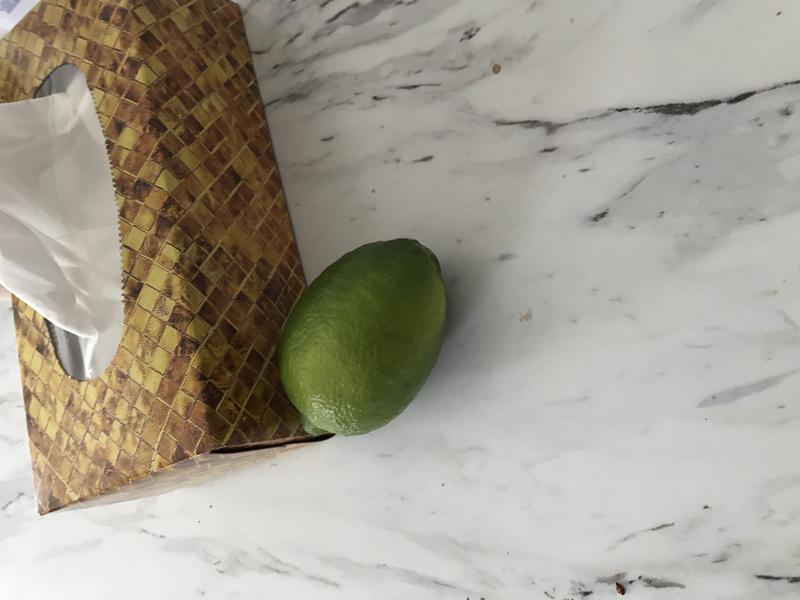lime: (270, 230, 462, 442)
